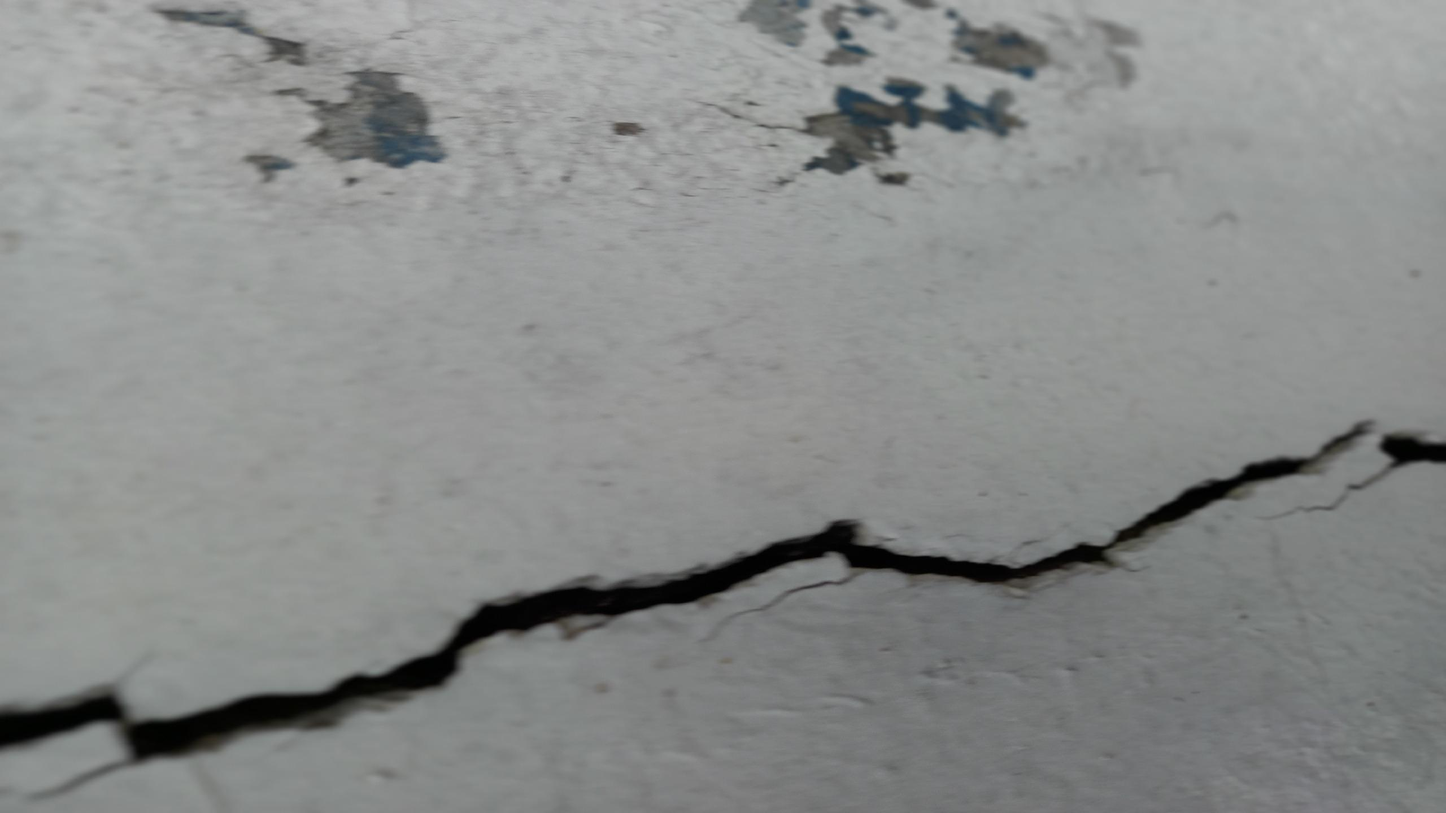crack: (1, 422, 1445, 761)
